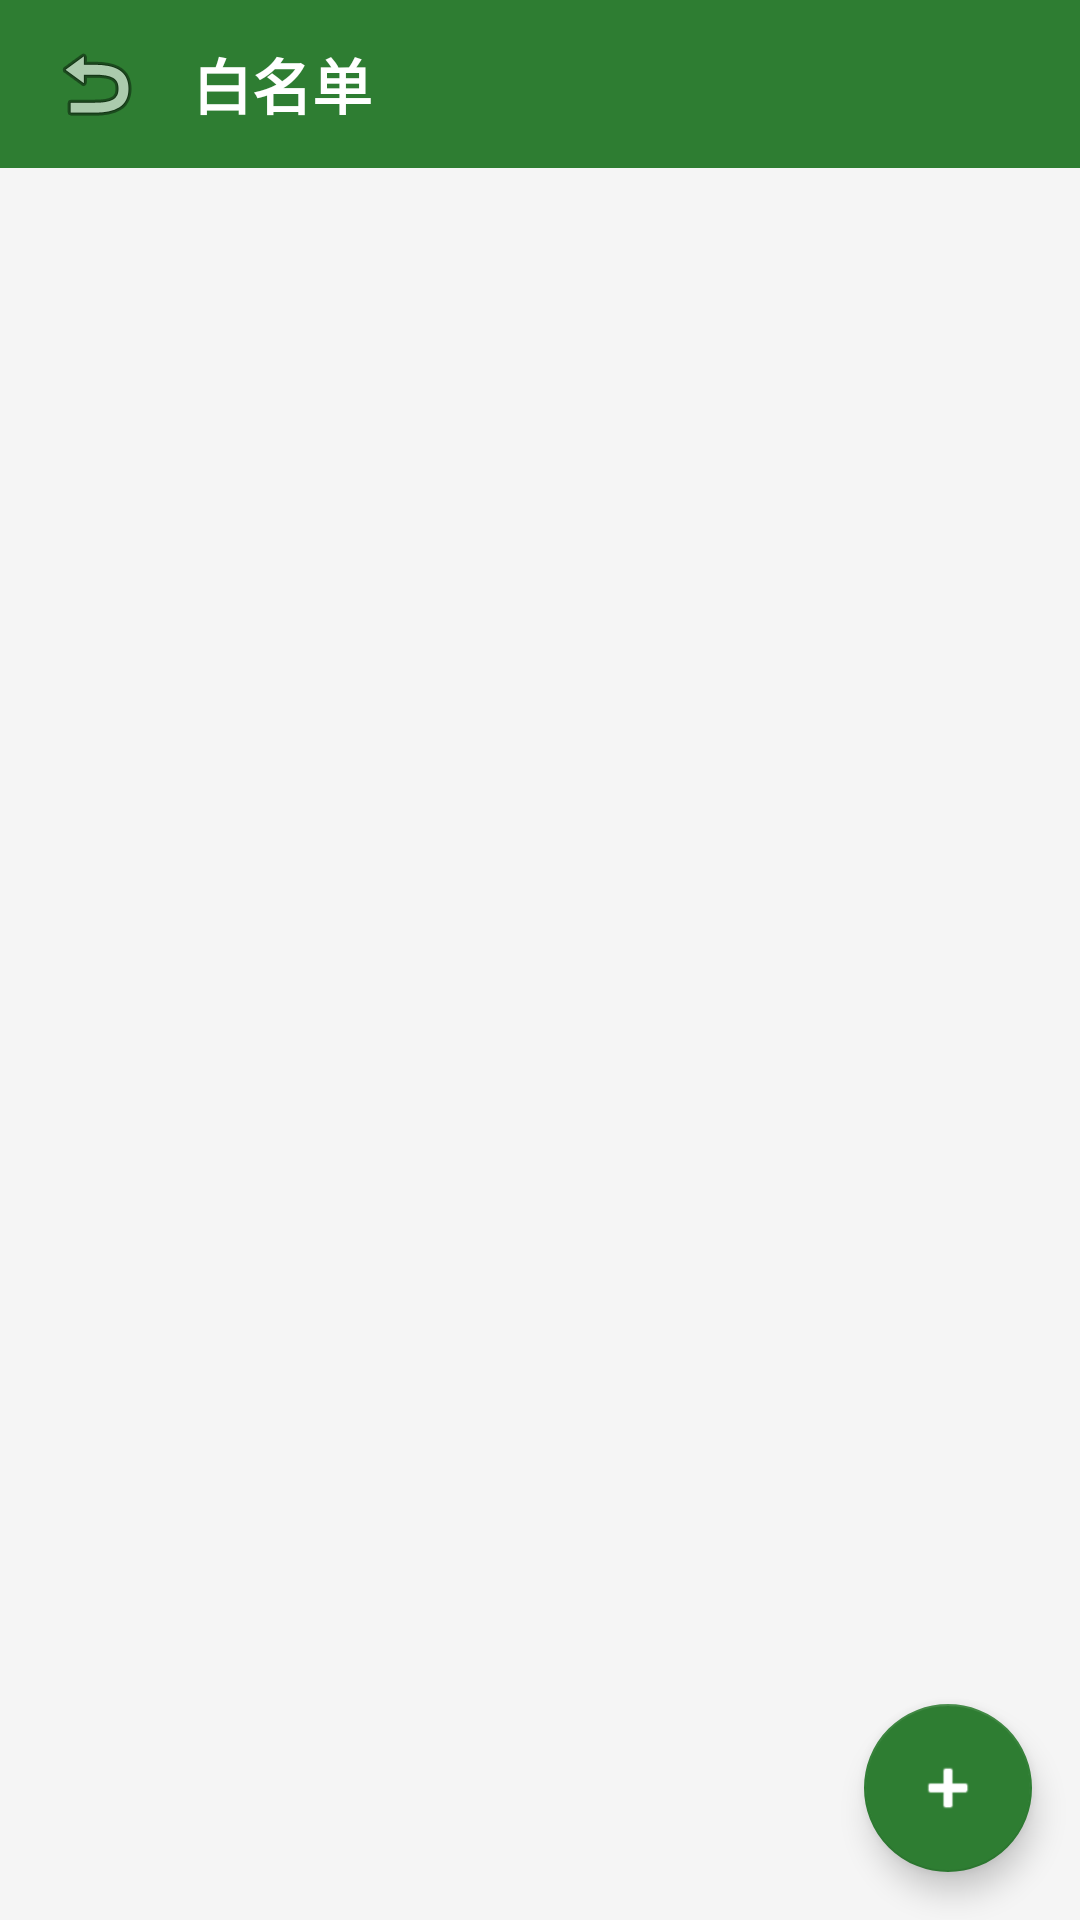

Screen size 1080*1920. Icon name, then its center in pixels as (x,y):
添加白名单: (948,1788)
返回: (97,85)
